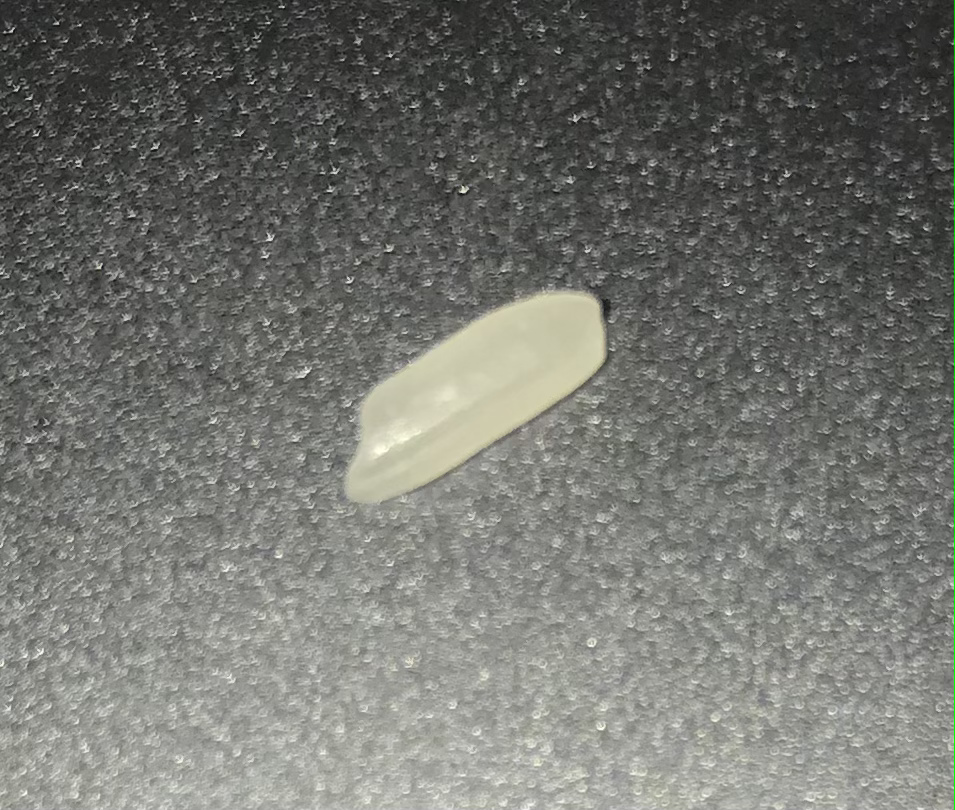Gao Thom My: (337, 275, 626, 514)
